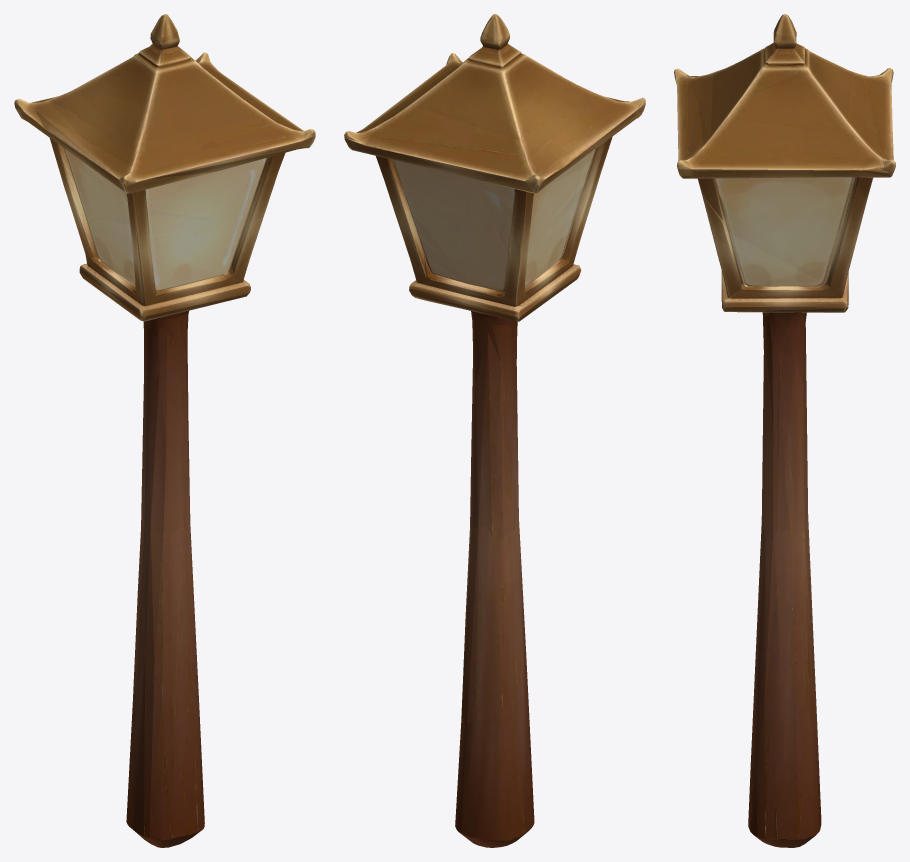
File: lantern.glb
The picture shows the model from 3 angles, left to right: view 1: azimuth 30°, elevation 25°; view 2: azimuth 150°, elevation 25°; view 3: azimuth 270°, elevation 25°; orthographic projection.
Bounding box in the file's own units: 0.4687 × 1.9 × 0.461.
Materials: 1 (1 with a texture image).
